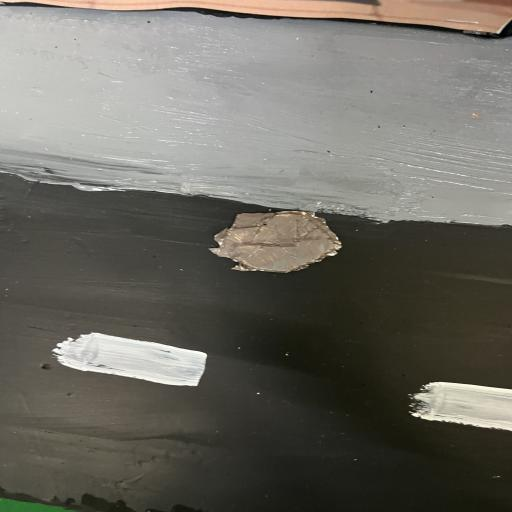porthole: (205, 206, 354, 276)
